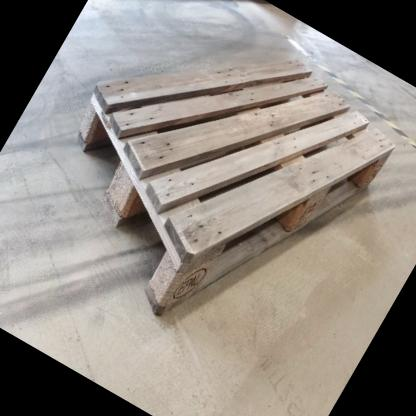BoxFace: (72, 53, 402, 323)
